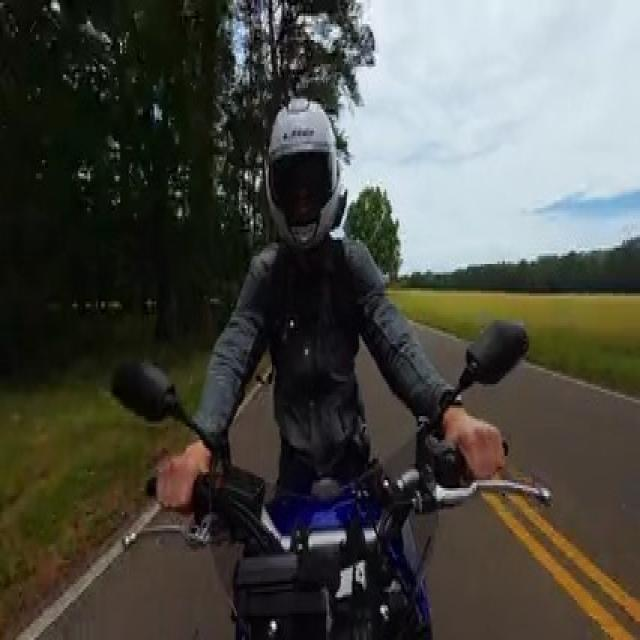Helmet_Wearer: (245, 80, 356, 240)
Person: (143, 83, 504, 548)
